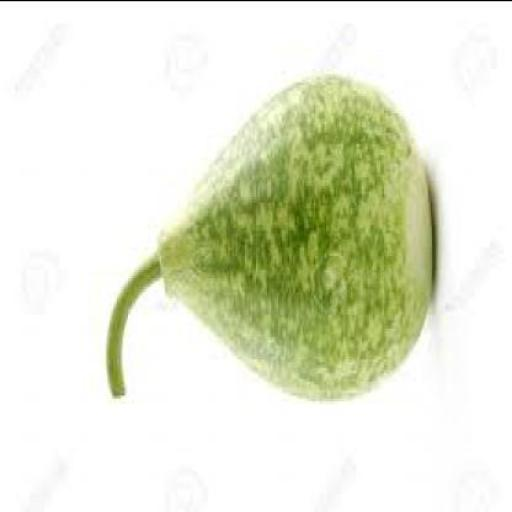biodegradable: (104, 73, 426, 395)
